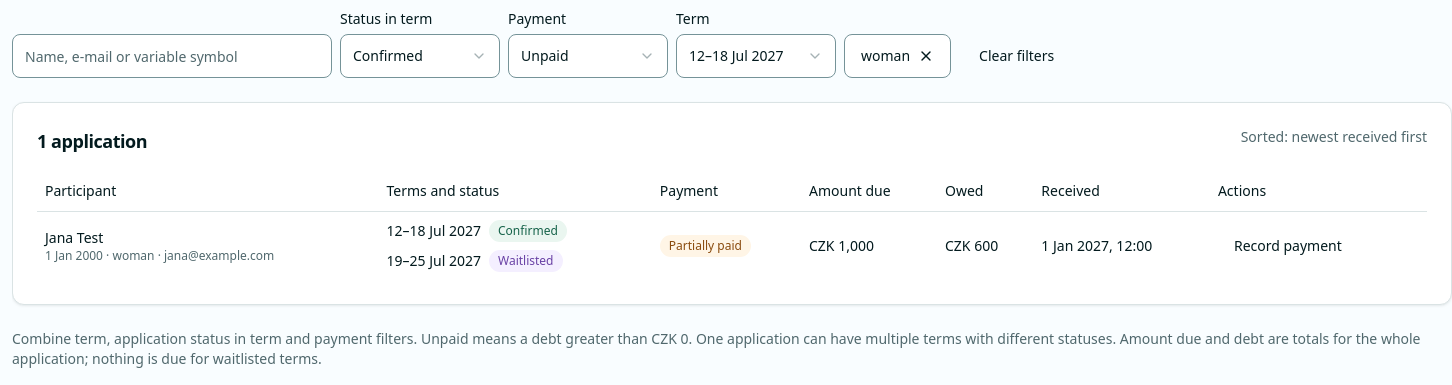
Test: ApplicationsPage › searches on every keystroke, preserves filters and clears the search with other filters
The image size is (1452, 385).
Type "J" into the search field named "Search applications" at (172, 56), box [12,34,332,78]
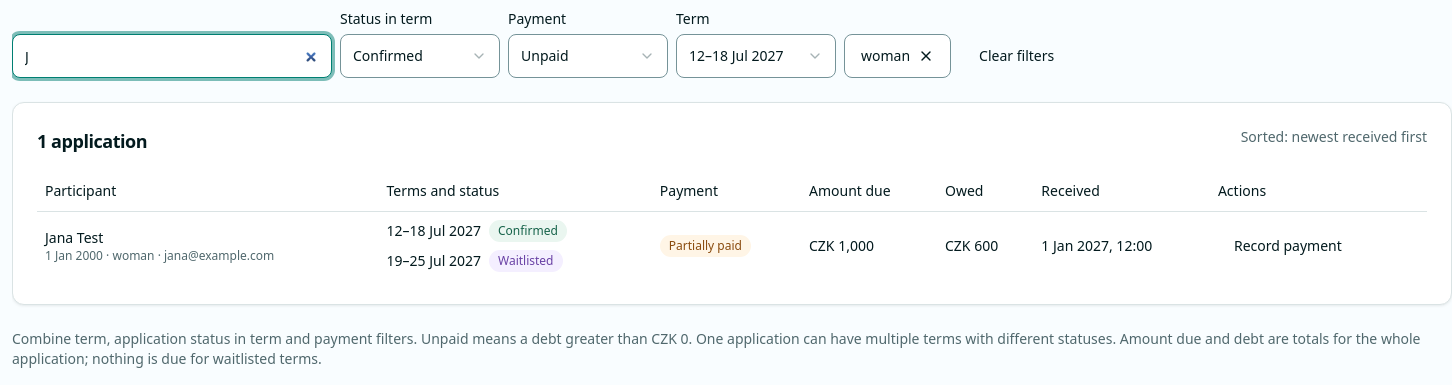
Type "ana Test" into the search field named "Search applications" at (172, 56), box [12,34,332,78]
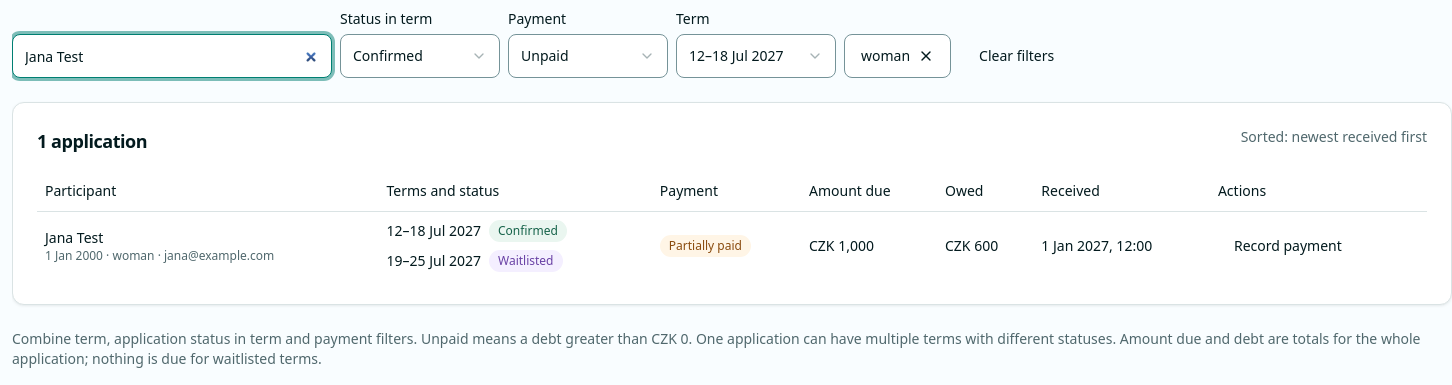
Click the button "Clear filters" at (1017, 56), box [959,34,1074,78]
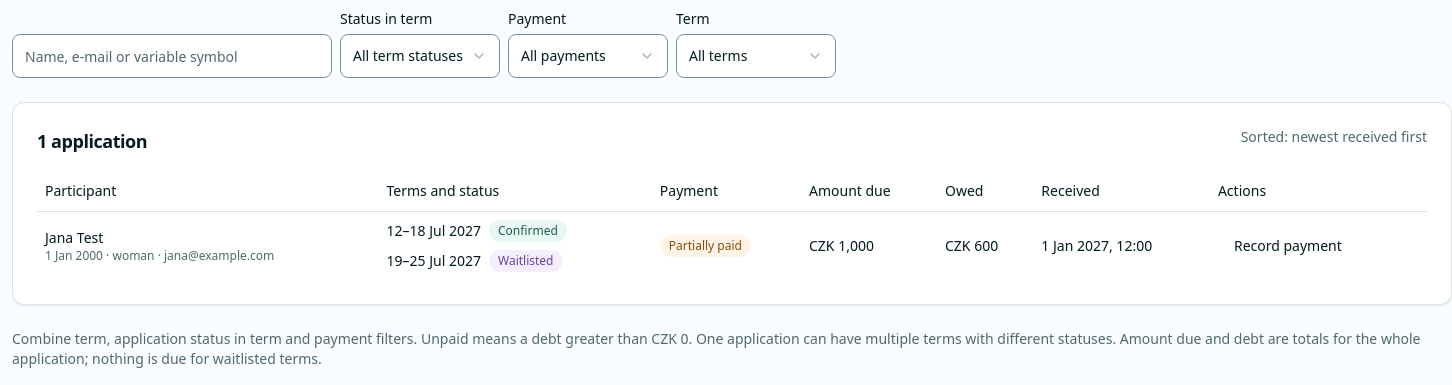
Expected: the search field named "Search applications" is empty, [12,34,332,78]
